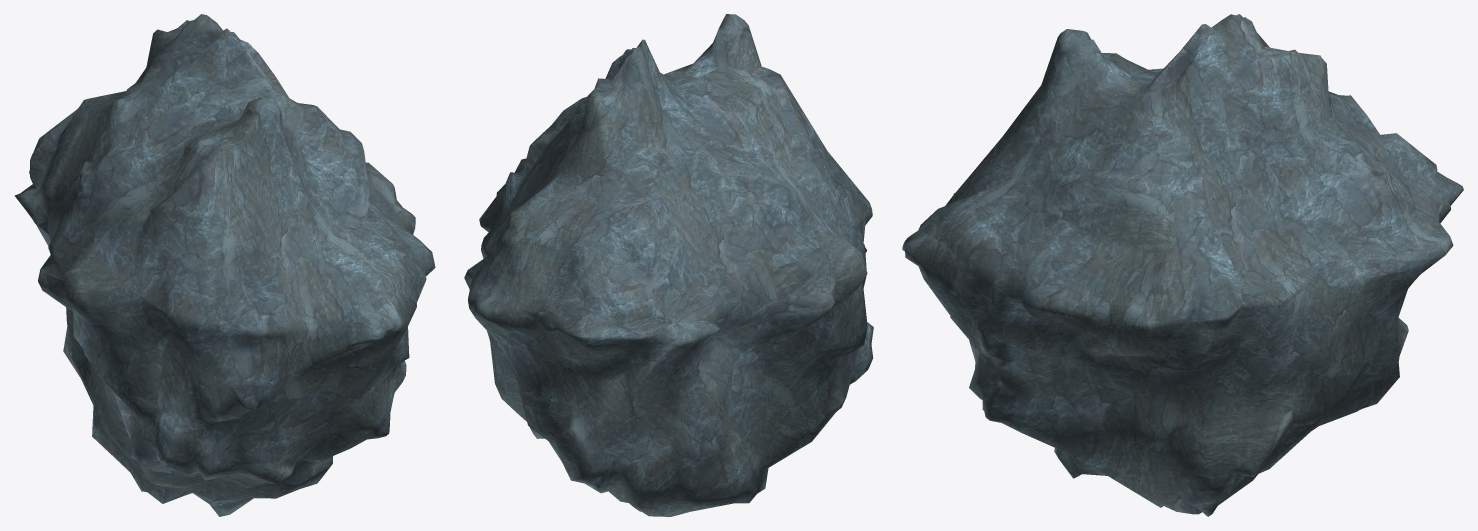
File: tesv_icebergsmall02-transformed.glb
The picture shows the model from 3 angles, left to right: view 1: azimuth 30°, elevation 25°; view 2: azimuth 150°, elevation 25°; view 3: azimuth 270°, elevation 25°; orthographic projection. The views are drawn at different scales.
Parts seen in each view (by area): view 1: icebergsmall02; view 2: icebergsmall02; view 3: icebergsmall02.
Part boxes in pixels (x1,y1,x2,y2): icebergsmall02: (15, 14, 435, 516); icebergsmall02: (464, 14, 873, 516); icebergsmall02: (902, 14, 1463, 516).
Size of the model in its own units: 15.08 by 19.52 by 19.92.
Materials: 1 (1 with a texture image).
